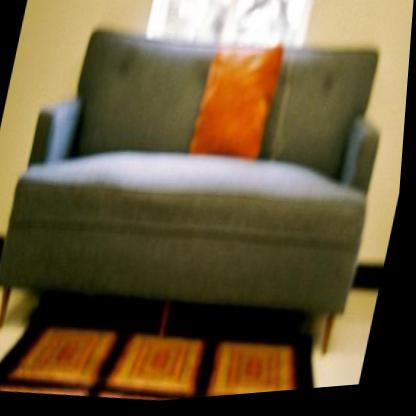Sofa: (0, 10, 407, 389)
